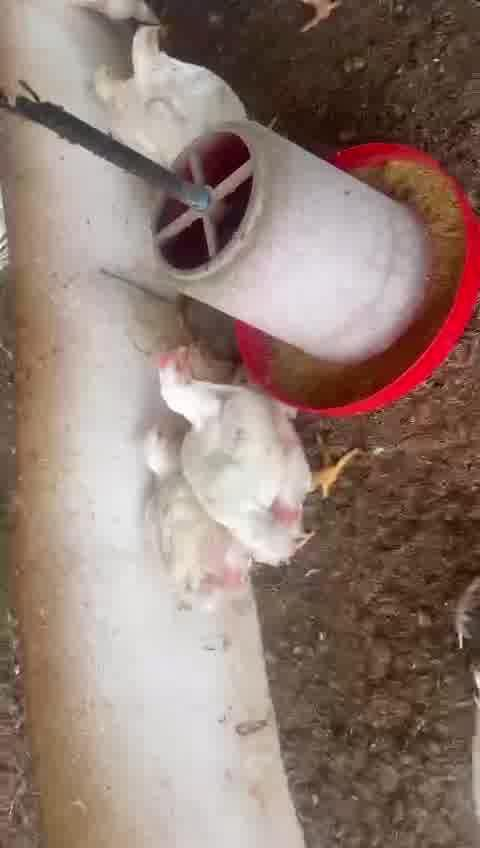Normal: (157, 344, 353, 553), (130, 434, 273, 609), (132, 25, 249, 118), (83, 72, 200, 148)
